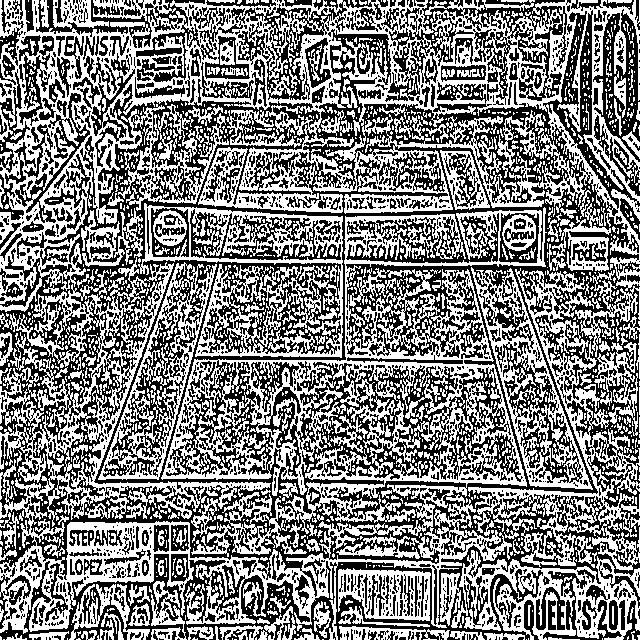left side: (440, 150, 595, 491), (97, 145, 249, 480)
player: (268, 366, 312, 522), (342, 78, 368, 148)
